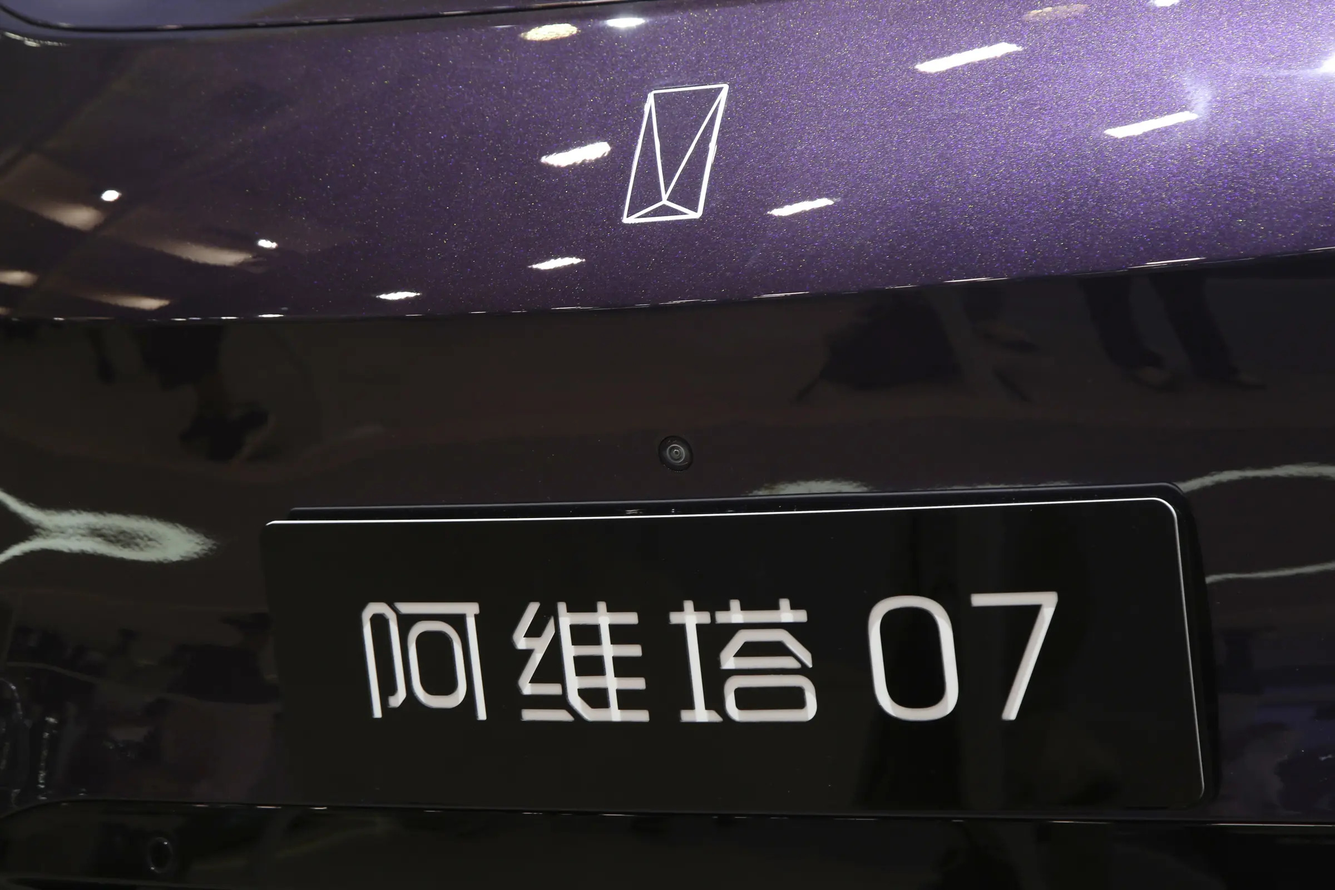AVATR: (622, 83, 729, 224)
